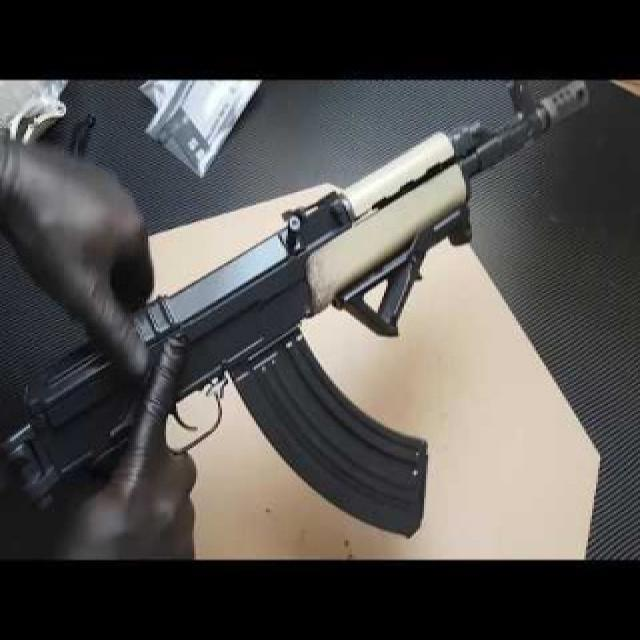weapon: (0, 76, 600, 544)
